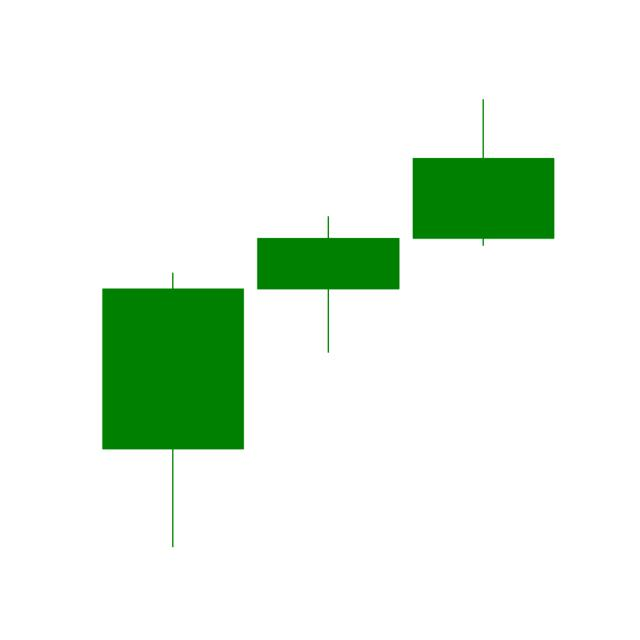Hammer: (96, 270, 249, 550), (249, 214, 406, 354)
Inverted Hammer: (410, 100, 558, 248)
